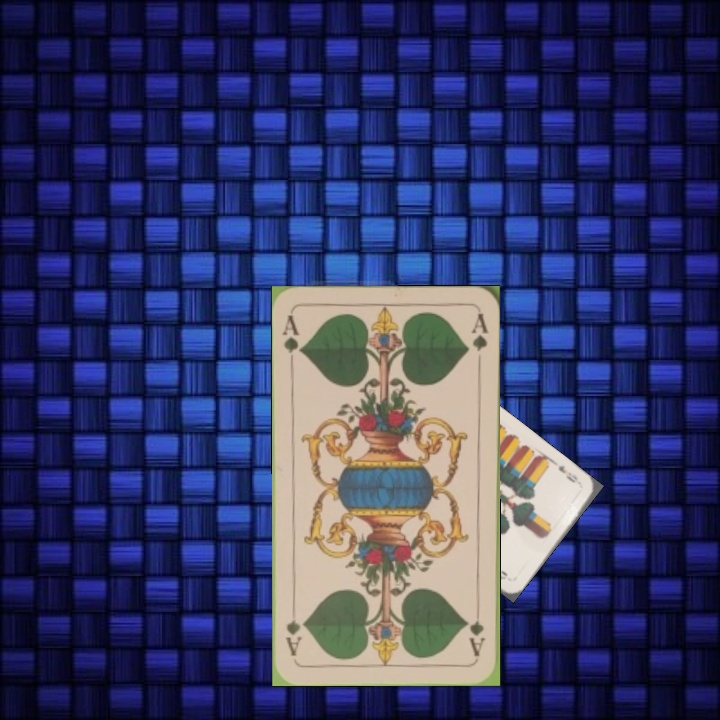E9: (554, 461, 580, 485)
GA: (278, 311, 305, 370), (465, 600, 488, 659)
